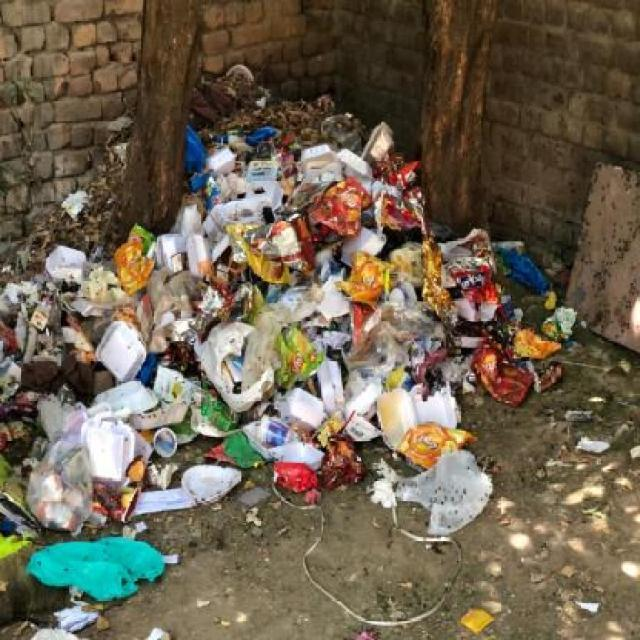garbage: (9, 34, 640, 638)
